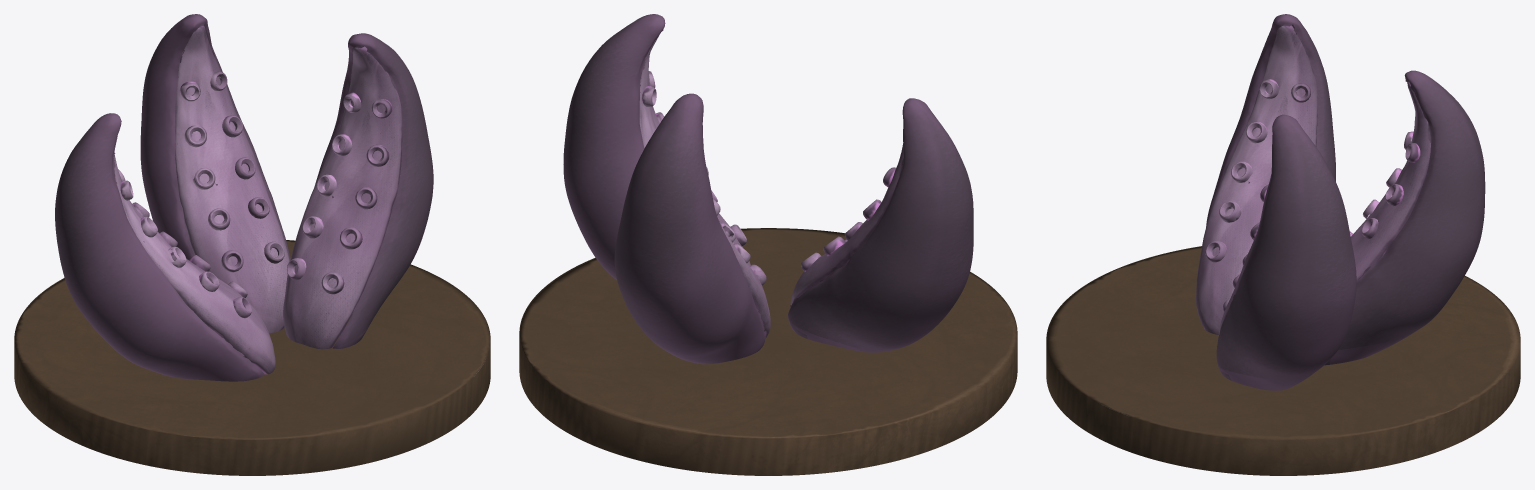
Rendered from Pulpo 1.obj.
The picture shows the model from 3 angles, left to right: view 1: azimuth 30°, elevation 25°; view 2: azimuth 150°, elevation 25°; view 3: azimuth 270°, elevation 25°; orthographic projection. The views are drawn at different scales.
Visible parts, largest first — view 1: Plane_ext_Plane_ext, Cylinder_ext_2, Cylinder_ext_Cylinder_ext_2; view 2: Plane_ext_Plane_ext, Cylinder_ext_Cylinder_ext_2, Cylinder_ext_2; view 3: Plane_ext_Plane_ext, Cylinder_ext_Cylinder_ext_2, Cylinder_ext_2.
Boxes of the visible parts, box(x1,y1,x2,y2) form: Plane_ext_Plane_ext: box(14, 240, 490, 475); Cylinder_ext_2: box(113, 25, 402, 374); Cylinder_ext_Cylinder_ext_2: box(55, 14, 433, 381); Plane_ext_Plane_ext: box(519, 228, 1017, 475); Cylinder_ext_Cylinder_ext_2: box(563, 14, 973, 364); Cylinder_ext_2: box(639, 36, 903, 338); Plane_ext_Plane_ext: box(1046, 246, 1520, 475); Cylinder_ext_Cylinder_ext_2: box(1206, 14, 1485, 390); Cylinder_ext_2: box(1196, 25, 1430, 335).
Size of the model in its own units: 0.9999 by 0.7267 by 0.9999.
Materials: 3 (3 with a texture image).
